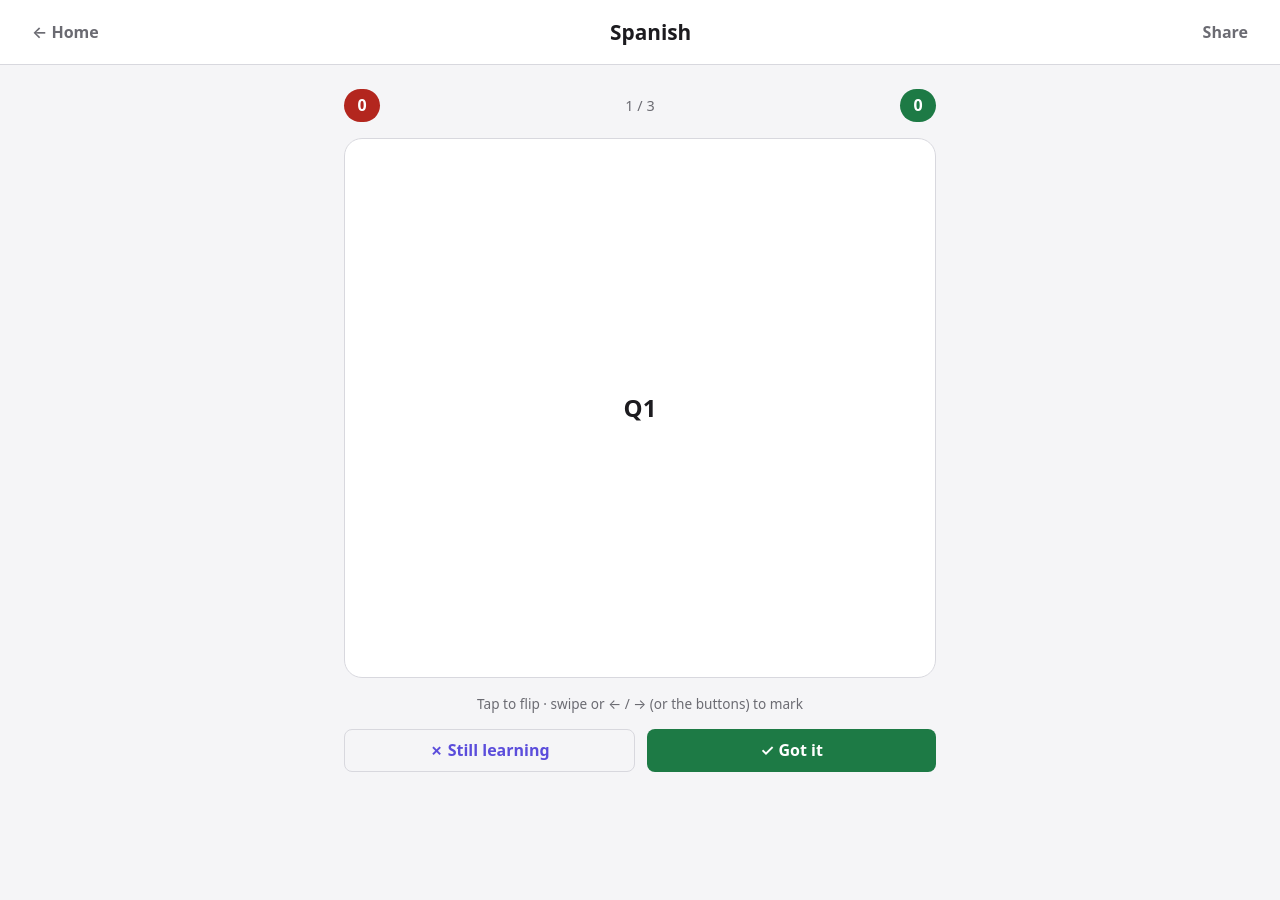
Test: PracticePage › clicking the card flips it
Click the button named "Show answer" at (640, 408), box [344, 138, 936, 678]
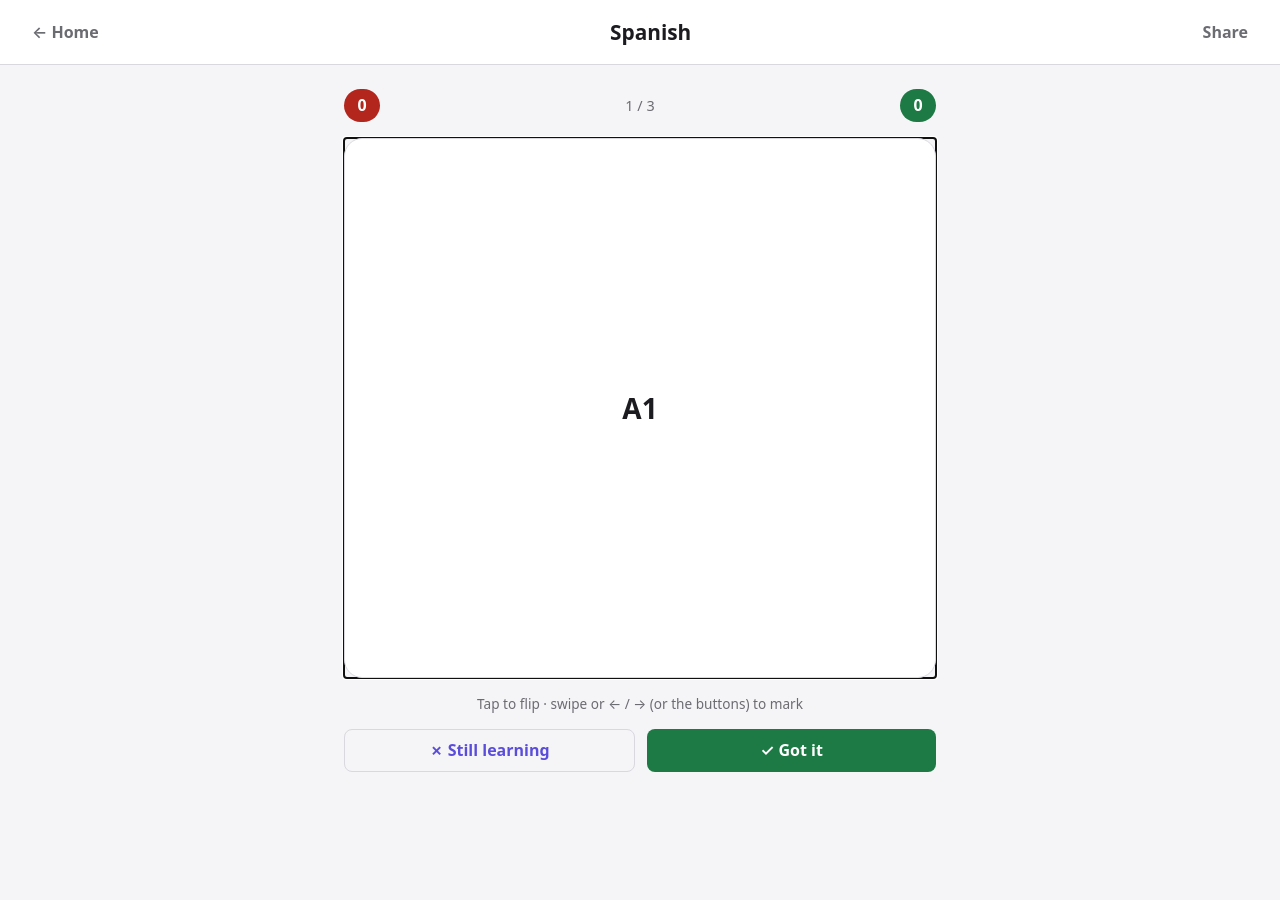
Expected: the button named "Show question" is shown, [344, 138, 936, 678]
